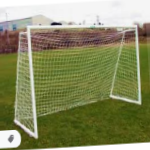goals: (14, 24, 143, 138)
